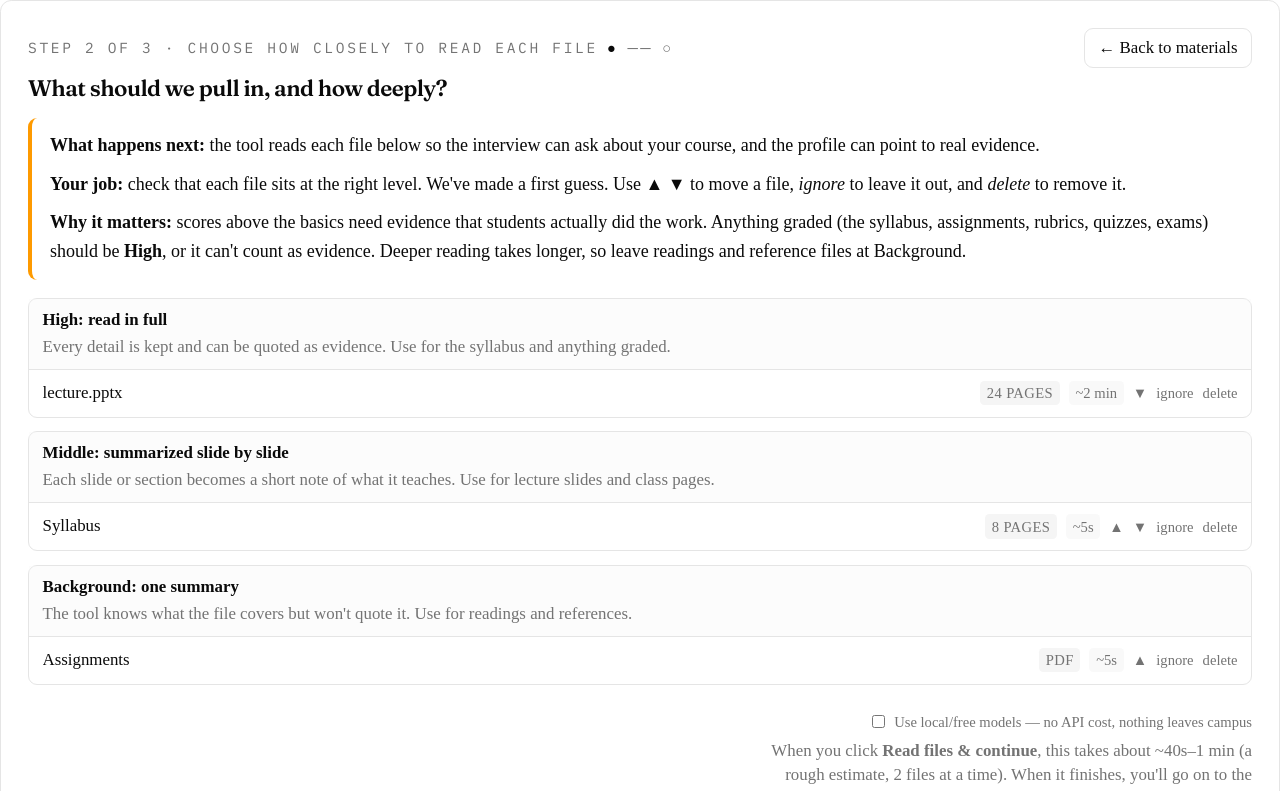
TriageStep › ignore button PATCHes with {ignored:true} and dims the row
The width and height of the screenshot is (1280, 791).
Step 1. Click the button "ignore" next to "~2 min" → (1175, 393), box [1156, 383, 1194, 403]
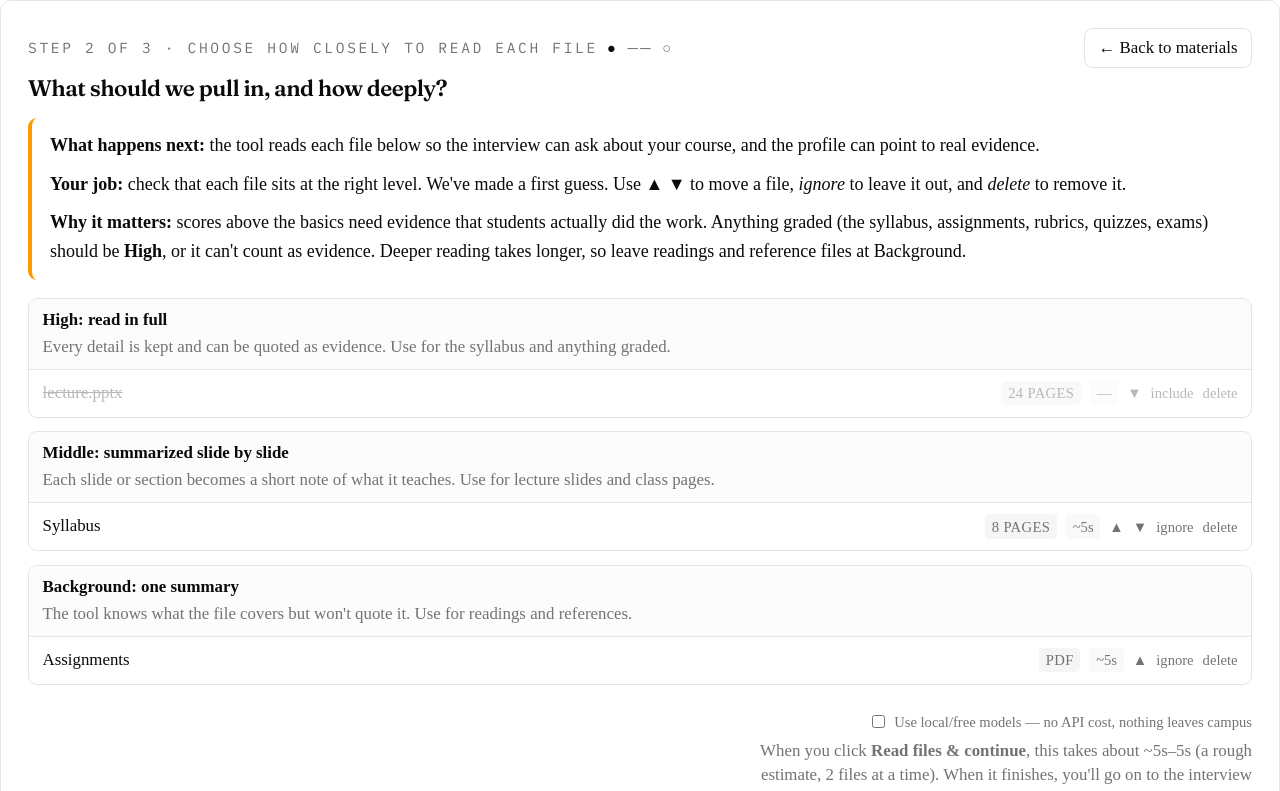
Now the button "include" is shown, box [1151, 383, 1194, 403]
